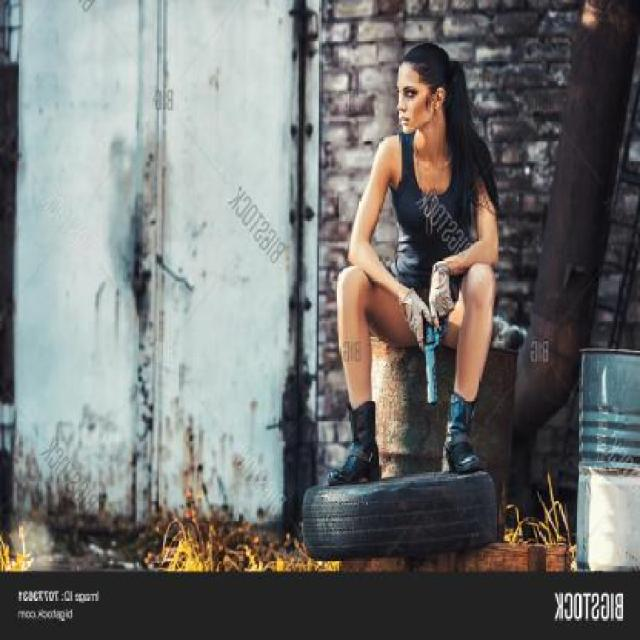pistol: (421, 298, 455, 404)
